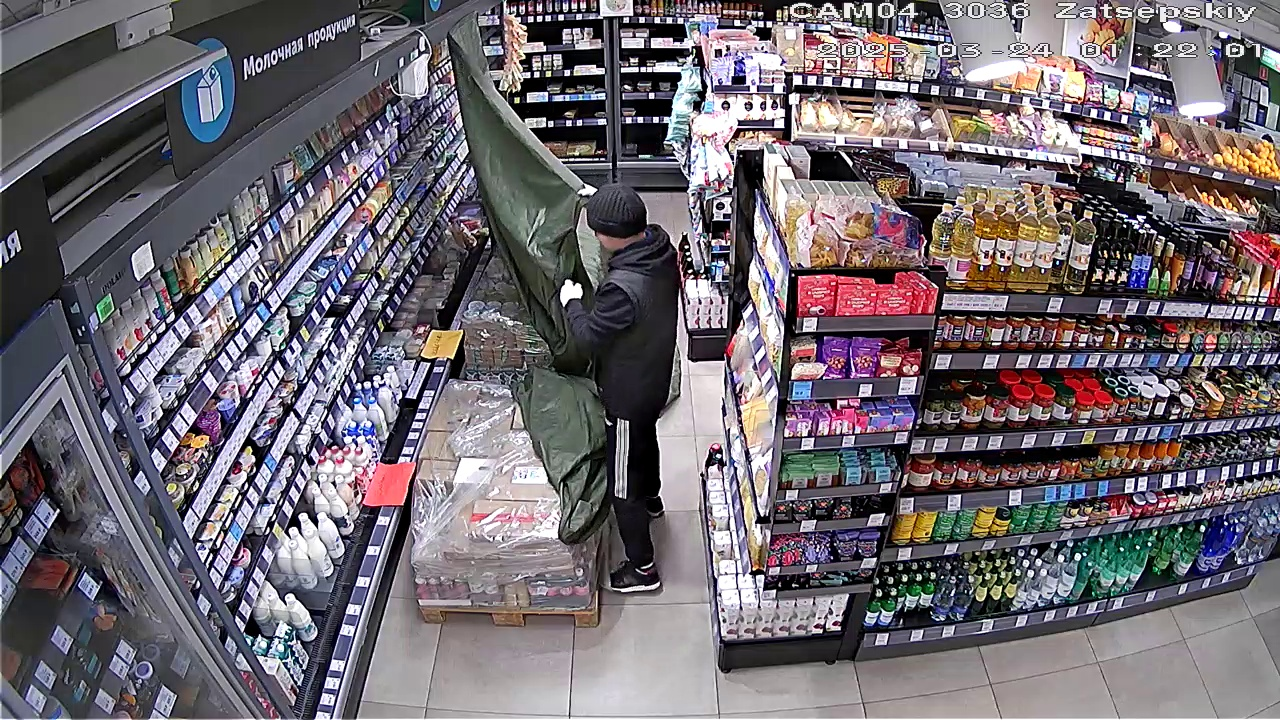Human: (549, 178, 696, 592)
pallet: (430, 382, 578, 615)
